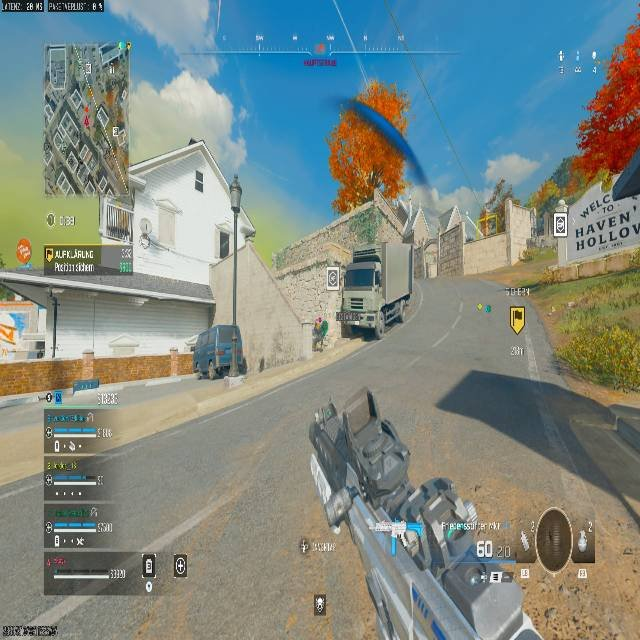player: (312, 317, 328, 351)
